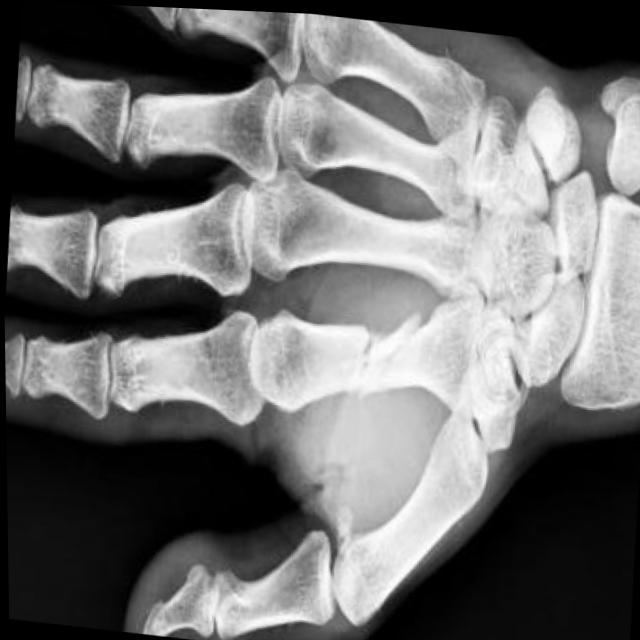fracture: (338, 299, 438, 423)
